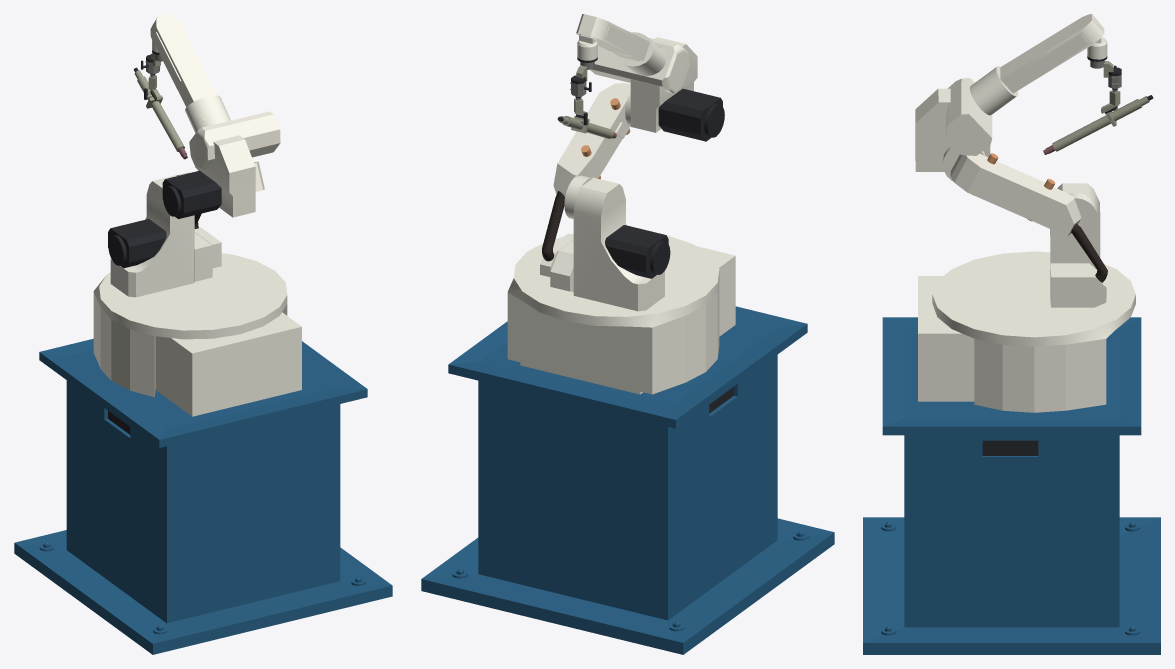
The model's file is Robot.glb.
The picture shows the model from 3 angles, left to right: view 1: azimuth 30°, elevation 25°; view 2: azimuth 150°, elevation 25°; view 3: azimuth 270°, elevation 25°; orthographic projection. The views are drawn at different scales.
Size of the model in its own units: 0.8119 by 1.73 by 0.8119.
